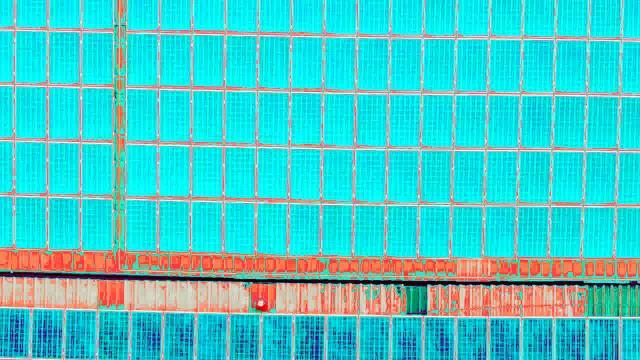dirty: (49, 29, 82, 86), (80, 29, 113, 86), (14, 83, 47, 140), (48, 85, 81, 142), (80, 86, 113, 143), (14, 139, 47, 196), (50, 139, 83, 196), (81, 140, 114, 197), (14, 193, 47, 250), (47, 193, 80, 250), (80, 196, 113, 253), (126, 30, 159, 87), (126, 88, 159, 145), (123, 143, 156, 200), (123, 198, 156, 255), (159, 32, 192, 89), (159, 87, 192, 144), (157, 144, 190, 201), (159, 198, 192, 255), (193, 32, 224, 88), (191, 87, 222, 143), (191, 143, 222, 199), (191, 199, 222, 255), (226, 33, 257, 89), (225, 89, 256, 145), (224, 145, 255, 201), (225, 200, 256, 256), (257, 35, 288, 91), (259, 90, 290, 146), (257, 145, 288, 201), (257, 199, 288, 255), (290, 33, 321, 89), (291, 90, 322, 146), (290, 147, 321, 203), (289, 201, 320, 257), (324, 35, 355, 91), (324, 93, 355, 149), (322, 147, 353, 203), (323, 202, 354, 258), (357, 35, 388, 91), (356, 91, 387, 147), (355, 148, 386, 204), (354, 204, 384, 258), (390, 37, 420, 91), (390, 92, 420, 146), (388, 148, 418, 202), (387, 204, 417, 258), (424, 37, 454, 91), (422, 93, 452, 147), (422, 149, 452, 203), (418, 203, 448, 257), (456, 36, 486, 90), (455, 92, 485, 146), (452, 148, 482, 202), (452, 204, 482, 258), (485, 204, 515, 258), (485, 150, 515, 204), (488, 94, 518, 148), (489, 37, 519, 91), (521, 38, 551, 92), (521, 92, 551, 146), (520, 149, 550, 203), (519, 204, 549, 258), (549, 205, 579, 259), (552, 150, 582, 204), (555, 95, 585, 149), (555, 37, 585, 91), (588, 38, 618, 92), (587, 95, 617, 149), (585, 149, 615, 203), (583, 206, 613, 260)
semi: (33, 309, 62, 360), (66, 309, 95, 360), (98, 309, 127, 360), (131, 309, 160, 360), (163, 309, 192, 360), (196, 309, 225, 360), (229, 309, 258, 360), (1, 308, 29, 358), (264, 313, 292, 360), (295, 313, 323, 360), (328, 313, 356, 360), (360, 313, 388, 360), (391, 313, 419, 360), (423, 313, 451, 360), (456, 313, 484, 360), (490, 316, 518, 360), (524, 316, 552, 360), (557, 316, 585, 360), (590, 316, 618, 359)
